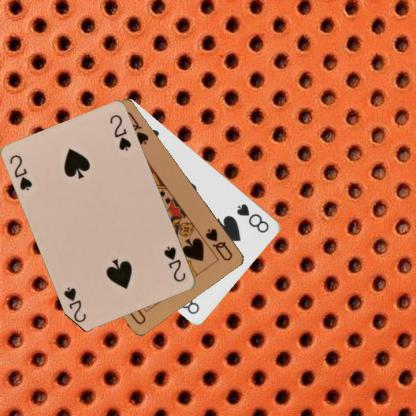2s: (7, 152, 35, 192), (161, 244, 187, 284)
8s: (234, 200, 271, 234)
Qs: (203, 226, 234, 262)
